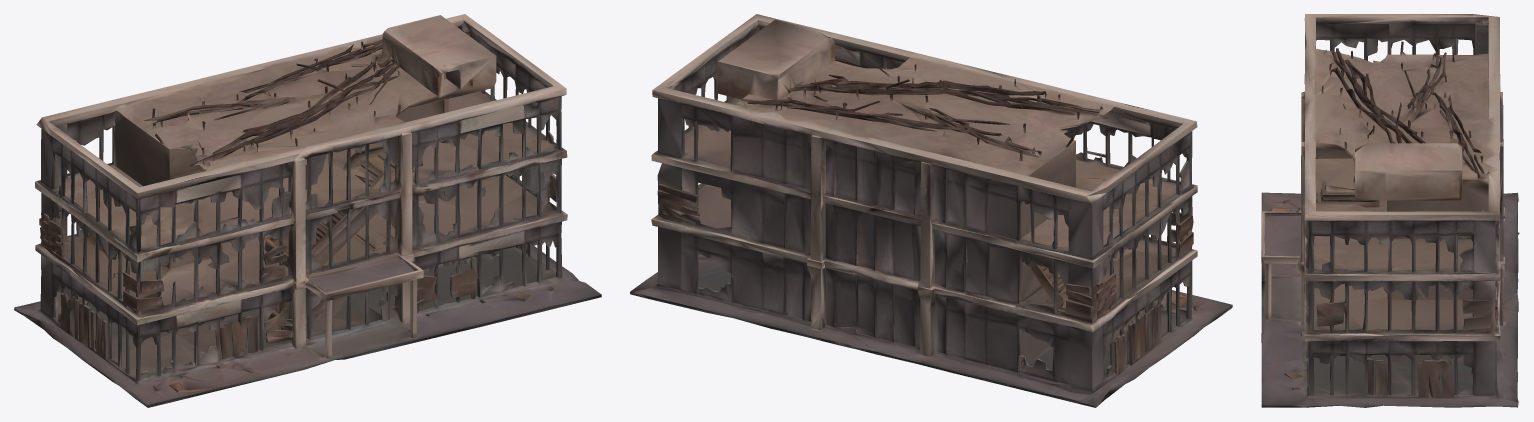
Rendered from police_station_idle.glb.
The picture shows the model from 3 angles, left to right: view 1: azimuth 30°, elevation 25°; view 2: azimuth 150°, elevation 25°; view 3: azimuth 270°, elevation 25°; orthographic projection. The views are drawn at different scales.
Visible parts, largest first — view 1: tripo_node_89154830-1c62-4e4b-82ab-1f219a930cfd; view 2: tripo_node_89154830-1c62-4e4b-82ab-1f219a930cfd; view 3: tripo_node_89154830-1c62-4e4b-82ab-1f219a930cfd.
Part boxes in pixels (<box>): tripo_node_89154830-1c62-4e4b-82ab-1f219a930cfd: <box>14,14,601,407</box>; tripo_node_89154830-1c62-4e4b-82ab-1f219a930cfd: <box>630,14,1232,407</box>; tripo_node_89154830-1c62-4e4b-82ab-1f219a930cfd: <box>1261,14,1519,407</box>.
Size of the model in its own units: 12 by 5.55 by 6.16.
Materials: 1 (1 with a texture image).
